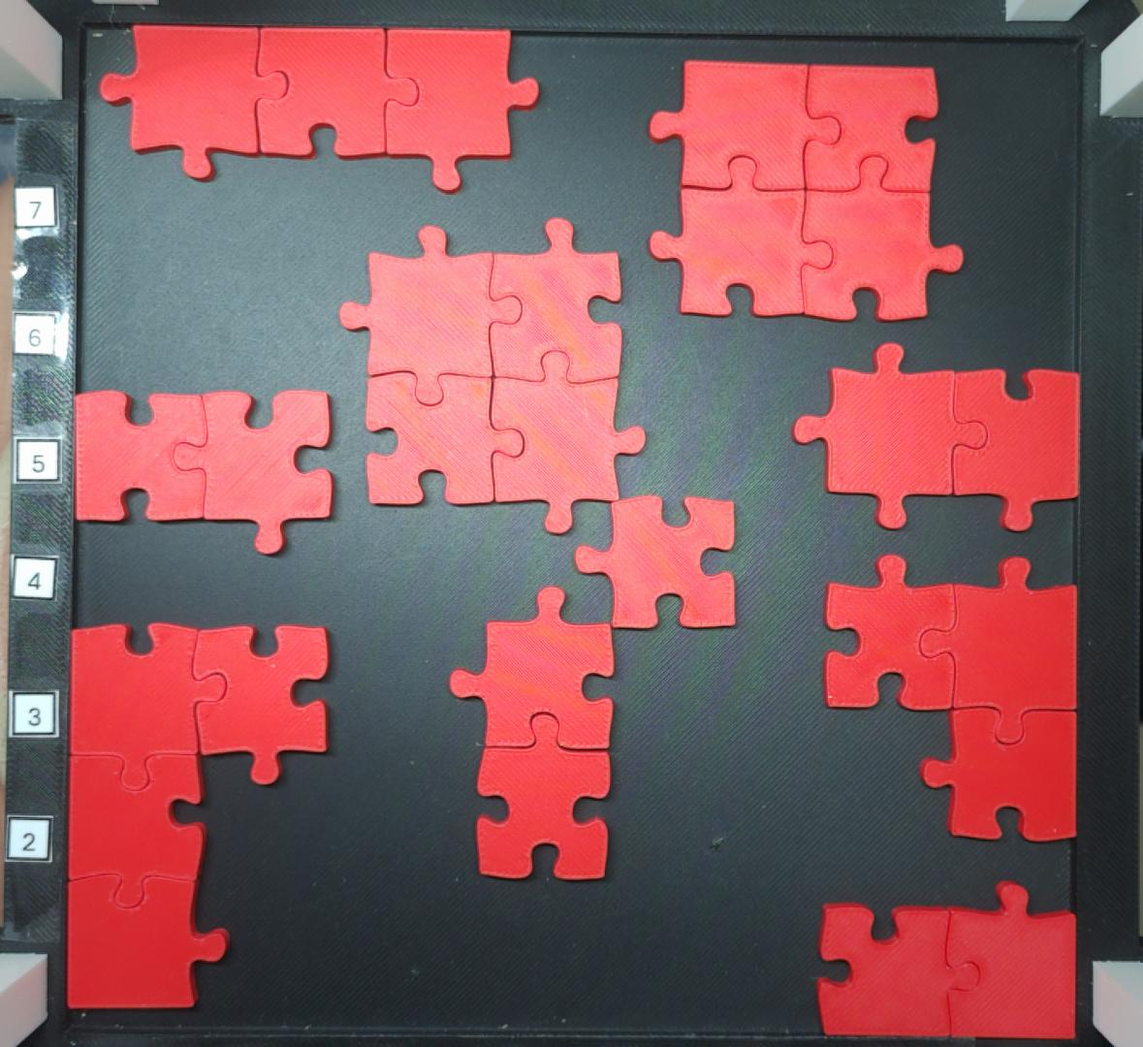p_1: (573, 492, 739, 631)
p_2: (790, 341, 1082, 533), (447, 584, 617, 882), (70, 388, 337, 557), (815, 878, 1078, 1041)
p_3: (98, 21, 543, 196), (822, 552, 1080, 843)
p_4: (64, 620, 332, 1013), (337, 214, 649, 537), (647, 57, 966, 325)
